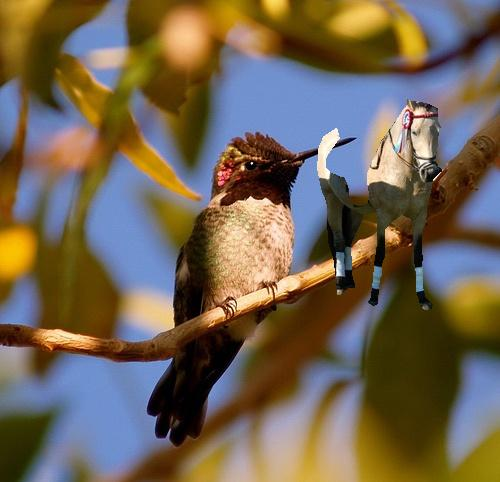tampered: (318, 100, 442, 310)
